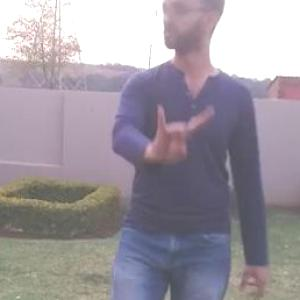takeoff-hand: (146, 96, 221, 171)
